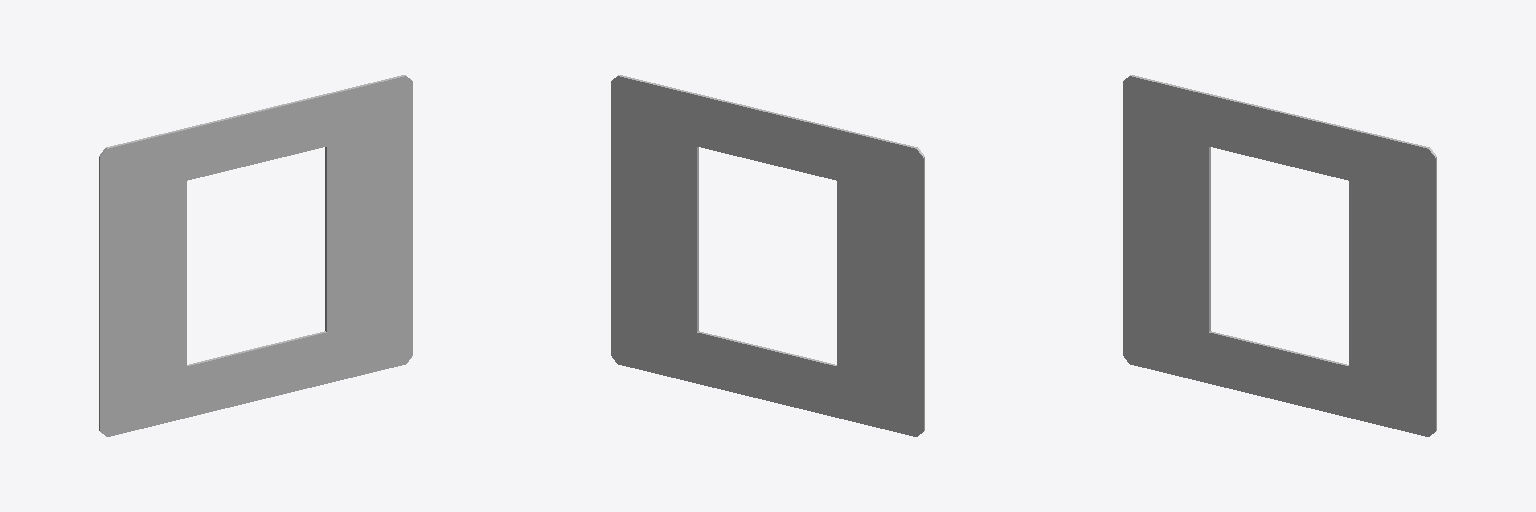
Rendered from pacs_top_plate.obj.
3 views of the same model, side by side, from view 1: azimuth 30°, elevation 25°; view 2: azimuth 150°, elevation 25°; view 3: azimuth 330°, elevation 25° (orthographic).
Visible parts, largest first — view 1: obj1; view 2: obj1; view 3: obj1.
Part boxes in pixels (x1,y1,x2,y2): obj1: (99,75,412,436); obj1: (611,75,924,436); obj1: (1123,75,1436,436).
Size of the model in its own units: 0.67 by 0.59 by 0.0064.